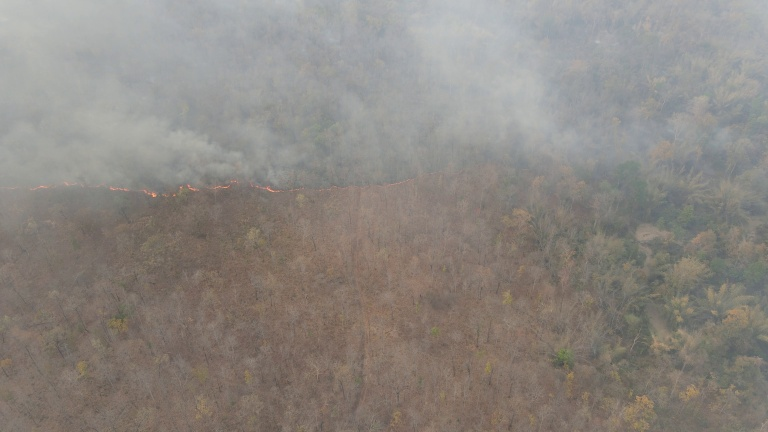fire: (1, 153, 515, 197)
smoke: (1, 1, 768, 184)
